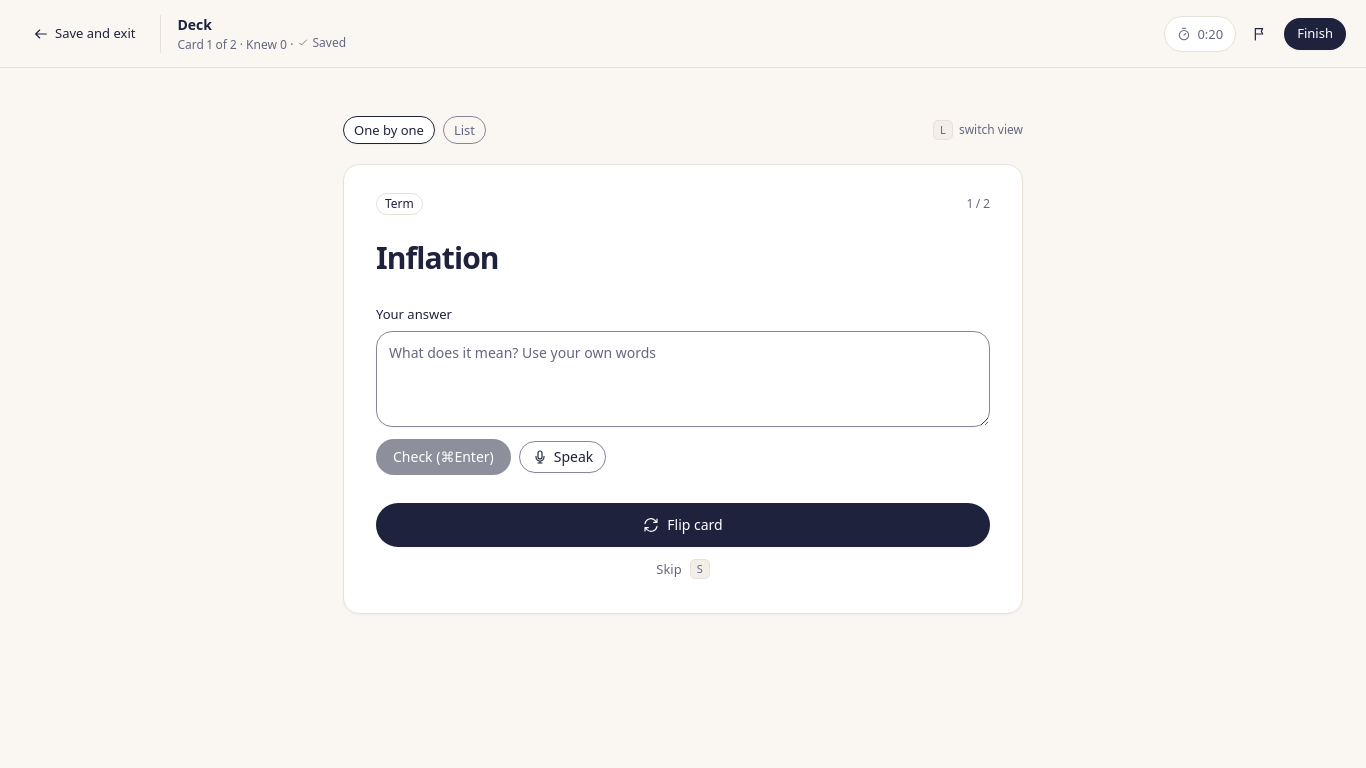
Test: does not offer self rating after a missing-session check
In the text box: (683, 379) [376,331,990,427], type "answer"
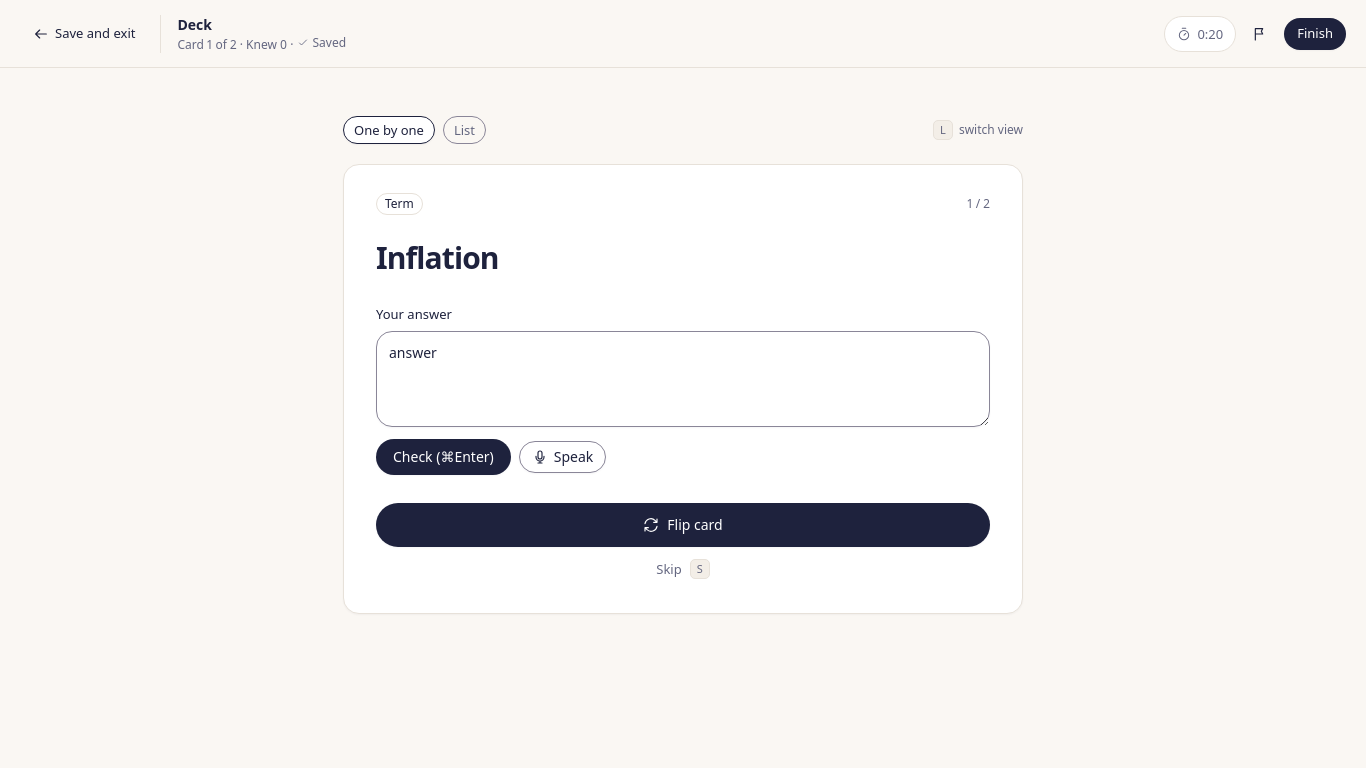
Click the button "Check (⌘Enter)": (443, 457) [376,439,511,475]
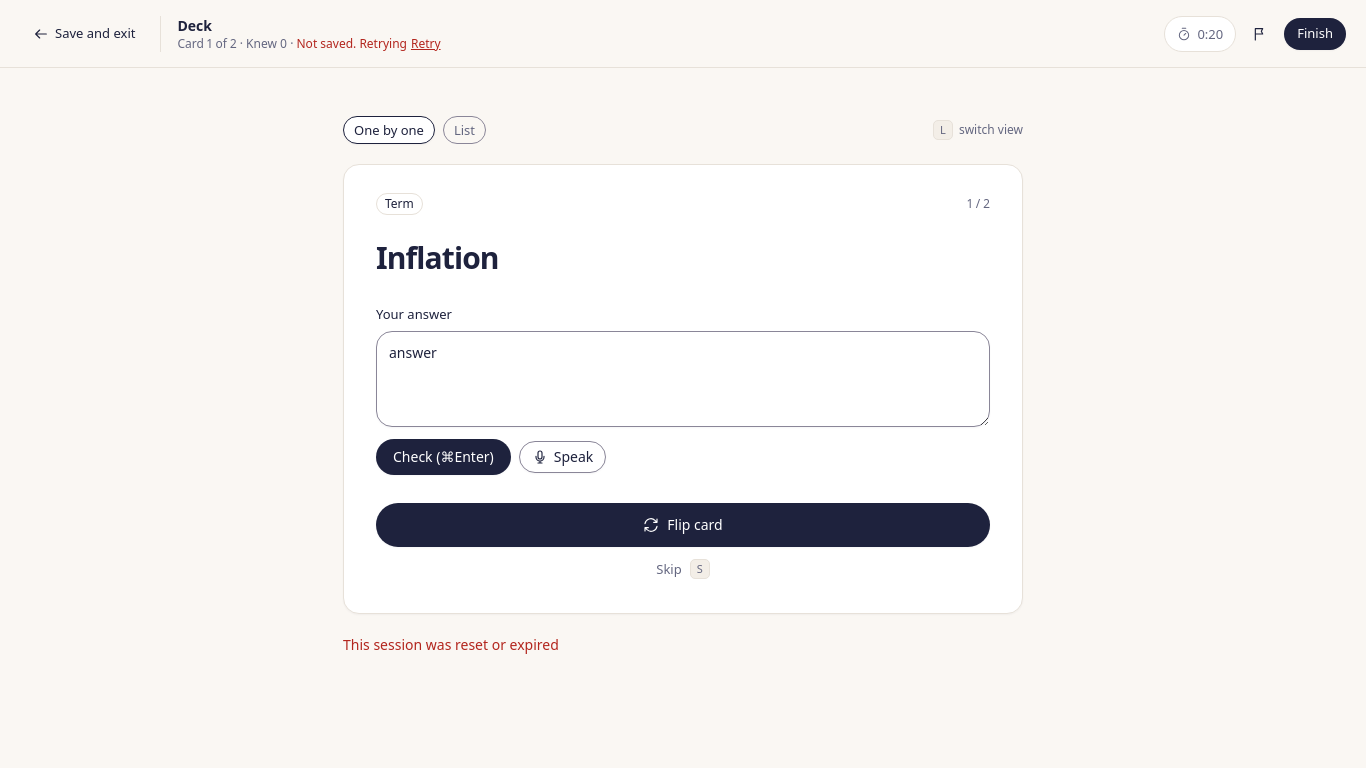
Expected: the message "This session was reset or expired" is shown, [343,635,559,654]
